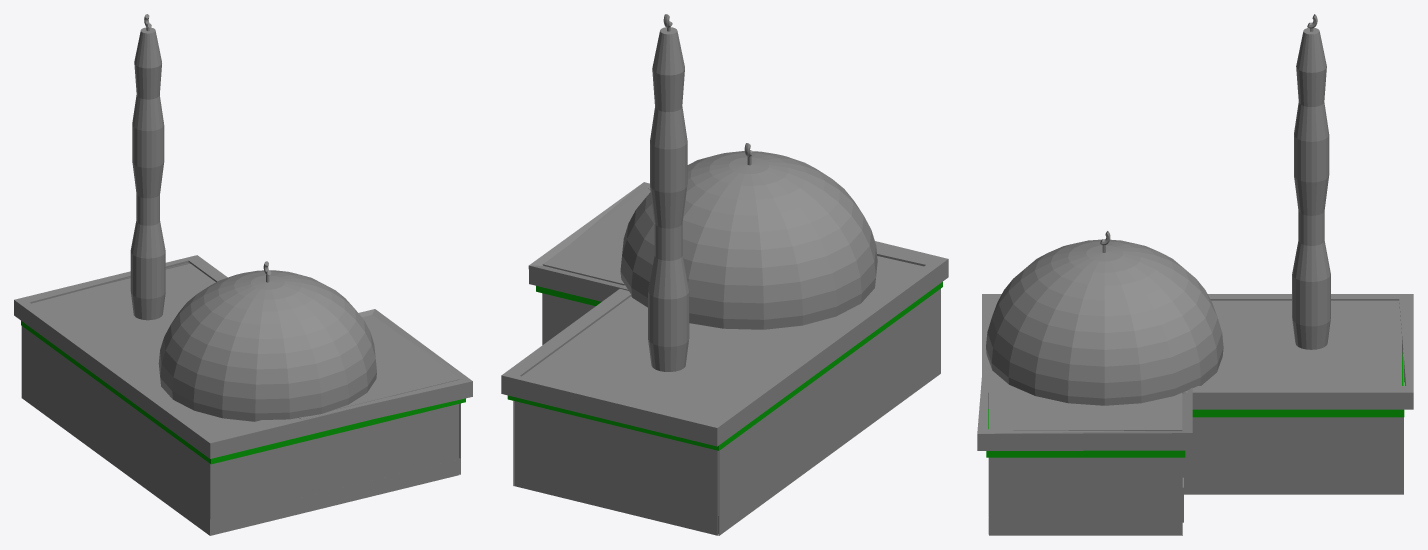
The model's file is MASJID (1).fbx.
3 views of the same model, side by side, from view 1: azimuth 30°, elevation 25°; view 2: azimuth 150°, elevation 25°; view 3: azimuth 270°, elevation 25° (orthographic). The views are drawn at different scales.
Visible parts, largest first — view 1: pSphere1, pCube9, polySurface1, polySurface7, polySurface6, pCylinder1, pCube19, pCube16, polySurface8, polySurface3; view 2: pSphere1, polySurface6, polySurface1, polySurface7, polySurface4, pCylinder1, pCube19, polySurface8, pCube14; view 3: pSphere1, polySurface2, pCube10, polySurface6, polySurface7, pCylinder1, pCube19, polySurface8.
Part boxes in pixels (<box>): pSphere1: <box>158,270,376,421</box>; pCube9: <box>210,404,459,535</box>; polySurface1: <box>21,326,210,535</box>; polySurface7: <box>14,255,472,458</box>; polySurface6: <box>32,263,254,433</box>; pCylinder1: <box>130,27,165,320</box>; pCube19: <box>299,314,460,418</box>; pCube16: <box>299,458,460,513</box>; polySurface8: <box>21,321,465,464</box>; polySurface3: <box>210,493,381,535</box>; pSphere1: <box>620,151,877,329</box>; polySurface6: <box>522,256,923,419</box>; polySurface1: <box>718,289,940,535</box>; polySurface7: <box>501,182,948,446</box>; polySurface4: <box>514,401,717,535</box>; pCylinder1: <box>648,27,689,371</box>; pCube19: <box>542,188,650,285</box>; polySurface8: <box>507,282,942,450</box>; pCube14: <box>542,293,595,344</box>; pSphere1: <box>986,239,1223,405</box>; polySurface2: <box>1182,417,1403,494</box>; pCube10: <box>989,457,1181,535</box>; polySurface6: <box>1201,300,1401,385</box>; polySurface7: <box>977,294,1413,450</box>; pCylinder1: <box>1292,28,1330,349</box>; pCube19: <box>988,361,1182,430</box>; polySurface8: <box>986,352,1404,457</box>.
Size of the model in its own units: 13.88 by 20.01 by 18.3.
